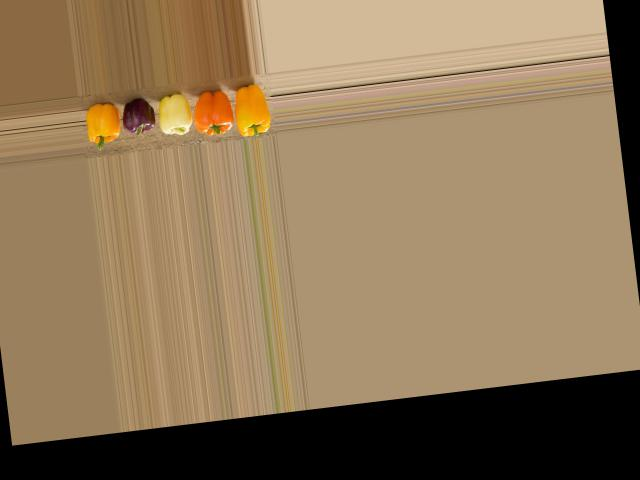bell_pepper: (80, 93, 120, 152)
